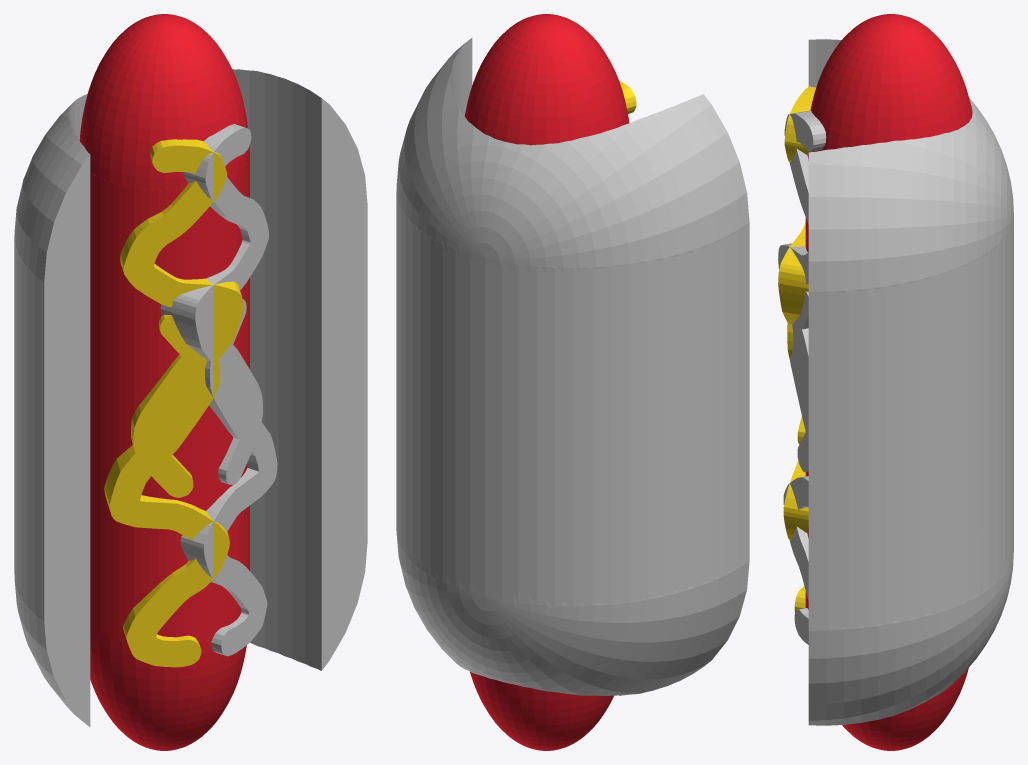
File: tinker 2.obj
3 renders of one model, left to right at view 1: azimuth 30°, elevation 25°; view 2: azimuth 150°, elevation 25°; view 3: azimuth 270°, elevation 25°, orthographic.
Visible parts, largest first — view 1: group_0_14860437, group_0_15277357, group_0_16768282, group_0_9771553; view 2: group_0_14860437, group_0_15277357; view 3: group_0_14860437, group_0_15277357, group_0_9771553, group_0_16768282.
Part boxes in pixels (<box>): group_0_14860437: <box>14,69,367,726</box>; group_0_15277357: <box>79,14,249,750</box>; group_0_16768282: <box>104,139,243,667</box>; group_0_9771553: <box>160,124,277,656</box>; group_0_14860437: <box>396,38,749,695</box>; group_0_15277357: <box>464,14,629,750</box>; group_0_14860437: <box>808,39,1013,725</box>; group_0_15277357: <box>805,14,972,750</box>; group_0_9771553: <box>778,110,826,644</box>; group_0_16768282: <box>778,86,815,612</box>.
Size of the model in its own units: 20 by 43 by 12.63.
